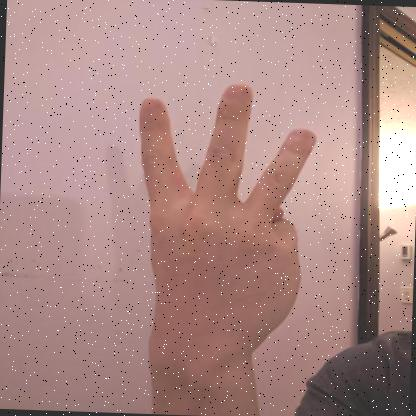W: (139, 84, 316, 360)
